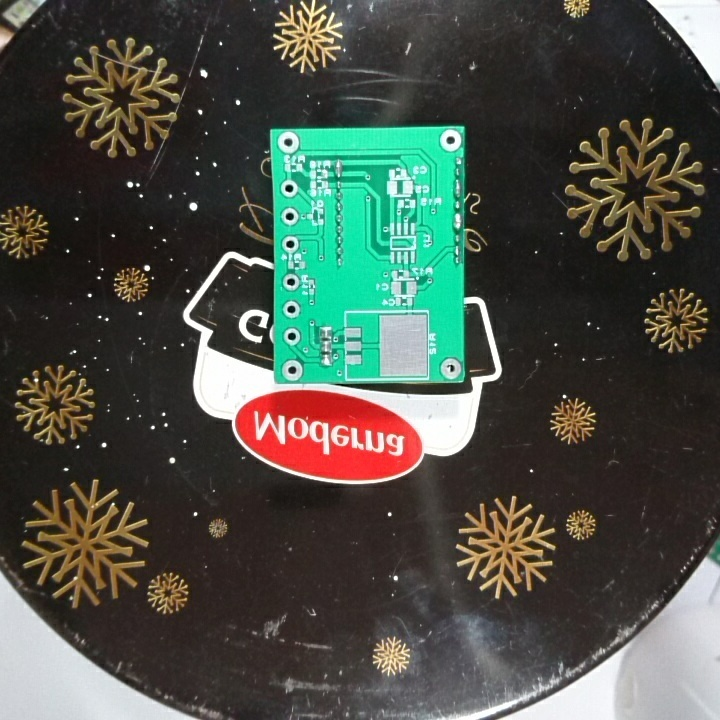F: (277, 130, 302, 157), (437, 356, 462, 380), (280, 358, 305, 382), (439, 128, 462, 154), (281, 300, 301, 322), (279, 178, 299, 200), (280, 271, 299, 294), (280, 206, 299, 227), (282, 326, 301, 346), (282, 233, 299, 255)
P: (332, 158, 345, 178), (451, 210, 462, 232), (452, 179, 464, 198)
